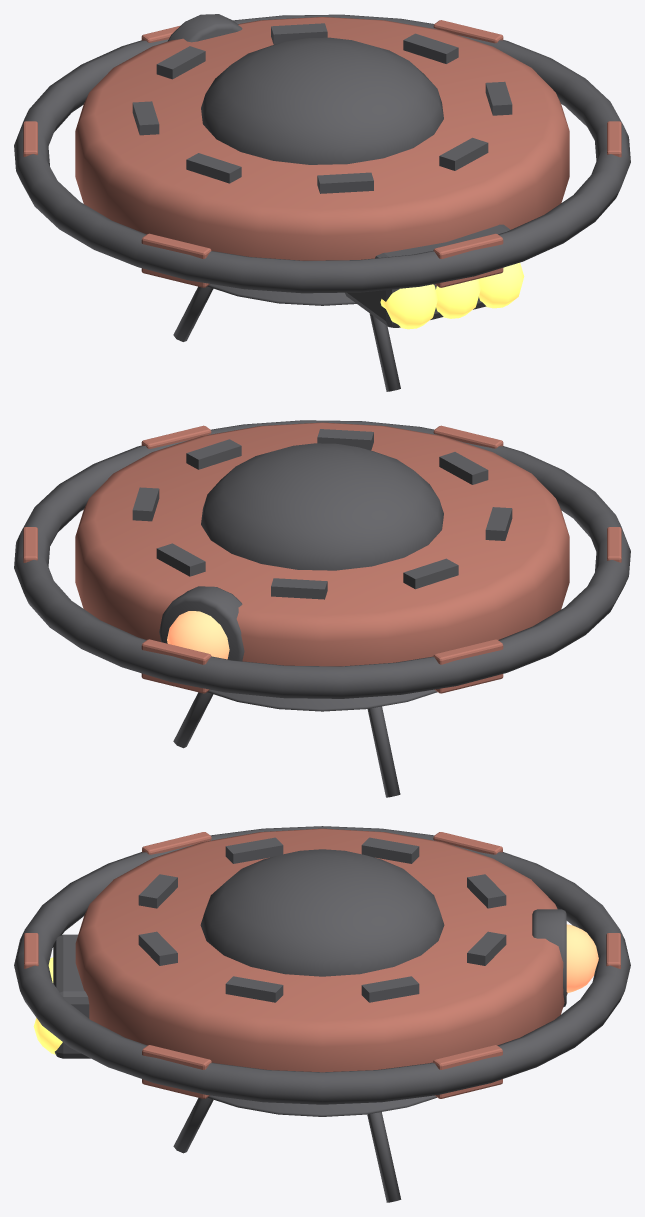
Rendered from minenleger.glb.
3 views of the same model, one above another, from view 1: azimuth 30°, elevation 25°; view 2: azimuth 150°, elevation 25°; view 3: azimuth 270°, elevation 25° (orthographic).
Parts seen in each view (by area): view 1: Scheibe, Rotor, Kuppel, Minenschacht, Mine0, Unterseite, Mine2, Mine1, Augenfassung.002, Bein1, Luefter4.001, Luefter5 (+7 smaller); view 2: Scheibe, Rotor, Kuppel, Augenfassung.002, Unterseite, Auge.002, Bein2, Luefter7, Luefter2.001, Luefter6, Luefter4.001, Luefter0.001 (+4 smaller); view 3: Scheibe, Rotor, Kuppel, Unterseite, Minenschacht, Auge.002, Augenfassung.002, Bein0, Luefter1.001, Luefter2.001, Luefter5, Luefter6 (+5 smaller).
Part boxes in pixels (<box>): Scheibe: <box>75,17,569,260</box>; Rotor: <box>14,14,630,293</box>; Kuppel: <box>201,37,443,164</box>; Minenschacht: <box>345,224,510,327</box>; Mine0: <box>380,284,437,329</box>; Unterseite: <box>207,284,356,305</box>; Mine2: <box>478,262,524,308</box>; Mine1: <box>436,279,480,318</box>; Augenfassung.002: <box>167,14,242,42</box>; Bein1: <box>369,313,400,391</box>; Luefter4.001: <box>317,172,373,193</box>; Luefter5: <box>186,153,241,183</box>; Scheibe: <box>75,422,569,666</box>; Rotor: <box>14,420,630,698</box>; Kuppel: <box>201,443,443,570</box>; Augenfassung.002: <box>159,586,244,661</box>; Unterseite: <box>207,689,437,711</box>; Auge.002: <box>167,611,229,659</box>; Bein2: <box>367,706,400,797</box>; Luefter7: <box>271,578,327,599</box>; Luefter2.001: <box>186,439,241,469</box>; Luefter6: <box>403,558,458,589</box>; Luefter4.001: <box>439,452,488,484</box>; Luefter0.001: <box>156,543,205,576</box>; Scheibe: <box>75,828,567,1072</box>; Rotor: <box>14,826,630,1104</box>; Kuppel: <box>200,849,444,976</box>; Unterseite: <box>208,1095,436,1116</box>; Minenschacht: <box>53,934,90,1058</box>; Auge.002: <box>566,924,598,992</box>; Augenfassung.002: <box>532,909,566,1007</box>; Bein0: <box>367,1112,401,1202</box>; Luefter1.001: <box>361,976,419,1002</box>; Luefter2.001: <box>225,976,283,1002</box>; Luefter5: <box>225,837,283,863</box>; Luefter6: <box>361,837,419,863</box>.
Size of the model in its own units: 2.5 by 1.27 by 2.5.
